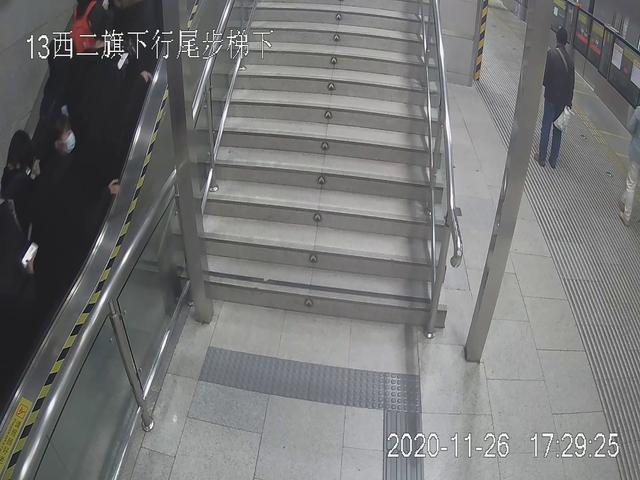person: (531, 23, 581, 177)
